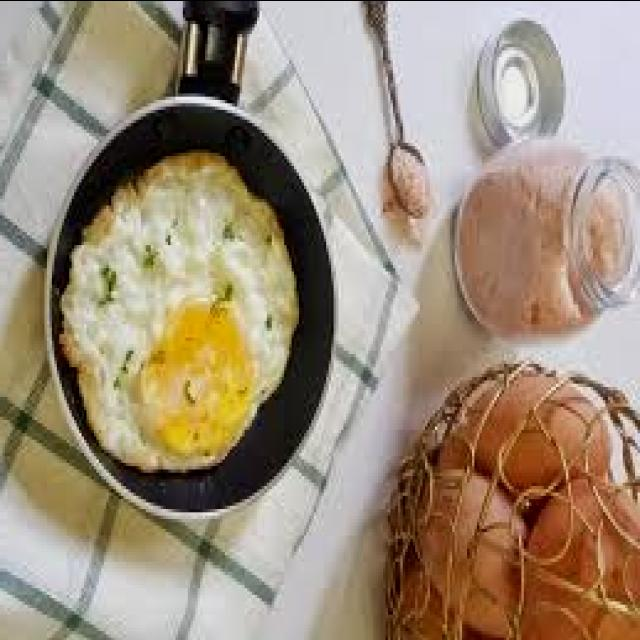telur ceplok: (57, 145, 299, 475)
